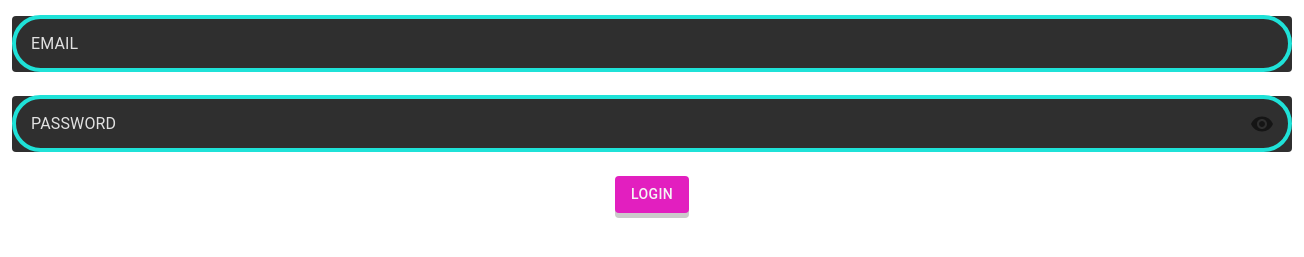
Scenario: auth login unit tests › email validation for john@
Type "john@" into the field labelled "EMAIL". click: (652, 44)
box: [12, 16, 1292, 72]
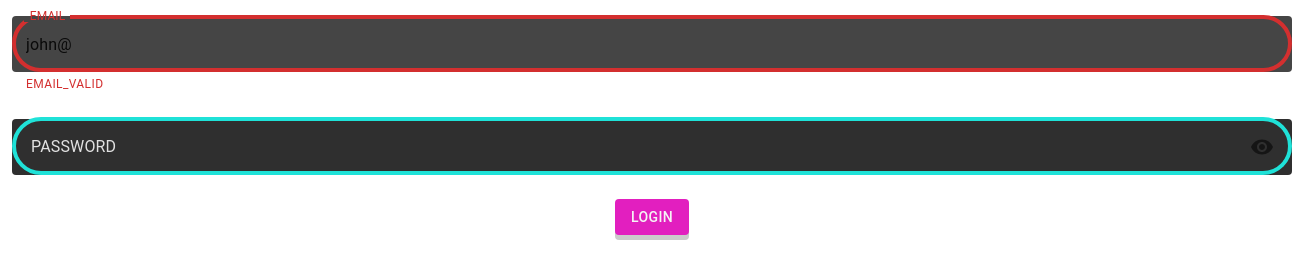
Now the text "EMAIL_VALID" is shown, box [26, 77, 103, 91]
